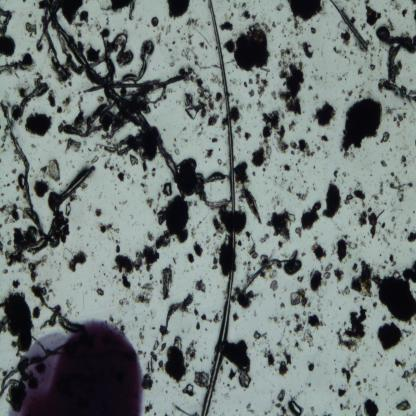Air bubble: (288, 398, 304, 414)
Background material: (47, 165, 96, 253), (59, 116, 134, 159), (340, 99, 382, 161), (375, 260, 416, 322), (0, 291, 34, 358), (330, 0, 369, 53), (232, 24, 270, 72), (278, 48, 304, 116), (189, 74, 222, 126), (158, 196, 190, 248), (110, 246, 160, 276), (338, 303, 368, 352), (142, 340, 166, 392), (226, 340, 252, 388), (375, 25, 416, 54), (349, 259, 375, 300), (166, 336, 188, 384), (295, 200, 322, 237), (174, 155, 197, 198), (355, 206, 384, 239), (238, 186, 263, 224), (376, 319, 404, 352), (267, 209, 295, 242), (286, 0, 325, 23), (293, 313, 316, 350), (0, 52, 38, 74), (0, 9, 17, 56), (261, 109, 282, 144), (322, 184, 342, 220), (25, 113, 53, 137), (59, 247, 87, 271), (212, 206, 233, 238), (389, 173, 412, 202), (331, 236, 358, 260), (271, 170, 294, 198), (104, 0, 136, 20), (59, 0, 84, 25), (312, 102, 336, 128), (220, 239, 236, 276), (133, 282, 156, 307), (28, 254, 46, 284), (290, 138, 316, 158), (250, 145, 272, 168), (40, 158, 61, 182), (165, 0, 191, 19), (364, 0, 382, 27), (161, 266, 175, 300), (382, 210, 396, 244), (308, 269, 324, 298), (233, 288, 255, 309), (0, 202, 20, 225), (289, 289, 312, 308), (4, 248, 28, 266), (254, 73, 270, 100), (235, 162, 252, 186), (277, 349, 292, 376), (98, 219, 121, 236), (171, 401, 198, 415), (363, 396, 380, 416), (276, 125, 288, 153), (274, 391, 288, 415), (181, 48, 199, 66), (63, 138, 82, 155), (86, 45, 102, 65), (33, 178, 49, 198), (400, 363, 416, 382), (307, 312, 326, 328), (235, 211, 247, 236), (194, 370, 209, 390), (262, 347, 276, 368), (371, 181, 385, 201), (310, 242, 326, 259), (271, 314, 291, 327), (140, 42, 156, 58), (24, 20, 38, 38), (301, 41, 314, 60), (187, 339, 197, 363), (392, 112, 408, 127), (340, 365, 352, 385), (392, 1, 408, 16), (104, 156, 118, 173), (120, 274, 133, 291), (263, 22, 281, 34), (292, 19, 304, 37), (338, 398, 353, 412), (332, 268, 345, 284), (396, 399, 412, 412), (223, 38, 235, 55), (158, 324, 170, 341), (248, 240, 258, 260), (354, 188, 368, 202), (220, 21, 235, 34), (252, 329, 268, 341), (47, 89, 57, 108), (349, 358, 362, 372), (182, 384, 195, 398), (62, 95, 74, 110), (195, 278, 206, 294), (161, 182, 174, 195), (240, 8, 252, 22), (297, 186, 309, 200), (340, 32, 352, 46), (333, 46, 347, 58), (214, 156, 228, 168), (186, 19, 201, 30), (370, 43, 376, 70), (129, 153, 140, 167), (231, 106, 240, 123), (144, 400, 154, 415), (1, 128, 7, 153), (80, 9, 90, 24), (241, 77, 253, 89), (168, 144, 181, 155), (226, 367, 236, 381), (381, 130, 391, 144), (193, 242, 203, 256), (324, 262, 332, 279), (407, 229, 416, 244), (259, 232, 270, 244), (385, 104, 396, 116), (289, 119, 299, 132), (150, 16, 160, 29), (269, 278, 279, 291), (399, 155, 409, 168), (344, 192, 353, 206), (211, 254, 219, 269), (394, 358, 406, 368), (201, 312, 213, 322), (204, 148, 214, 160), (336, 386, 346, 398), (387, 18, 395, 32), (270, 88, 278, 102), (32, 306, 40, 320), (146, 194, 154, 208), (186, 32, 194, 46), (11, 278, 21, 289), (146, 231, 156, 242), (320, 133, 330, 144), (243, 129, 252, 141), (247, 402, 256, 414), (341, 284, 350, 296), (234, 125, 242, 138), (94, 206, 101, 220), (355, 380, 362, 394), (257, 100, 265, 112), (192, 225, 198, 240), (317, 346, 326, 356), (275, 3, 285, 12), (65, 201, 71, 216), (282, 164, 292, 173), (296, 274, 305, 284), (187, 252, 194, 264), (333, 168, 339, 182), (156, 30, 162, 44), (210, 135, 219, 144), (90, 155, 98, 165), (118, 172, 126, 182), (380, 157, 388, 167), (214, 312, 221, 323), (390, 254, 396, 266), (200, 41, 208, 50), (357, 66, 364, 76), (232, 312, 239, 322), (308, 362, 315, 372), (151, 166, 157, 177), (96, 288, 104, 296), (310, 25, 316, 35), (195, 320, 201, 330), (56, 105, 62, 115), (280, 300, 286, 310), (248, 90, 254, 99), (1, 268, 8, 275), (328, 384, 334, 392), (194, 307, 198, 319), (115, 245, 120, 254), (413, 9, 416, 24), (347, 90, 353, 97), (308, 84, 313, 92), (12, 169, 18, 175), (27, 13, 33, 19), (410, 0, 416, 6), (16, 184, 20, 191)
Cellulose filter fibre: (39, 0, 140, 122), (0, 103, 45, 246), (136, 108, 181, 184), (240, 249, 299, 296), (29, 284, 79, 334), (139, 68, 194, 112), (10, 82, 48, 121), (194, 173, 230, 208), (164, 294, 192, 329), (118, 53, 147, 82), (382, 80, 416, 98), (388, 44, 399, 81)
Hair: (200, 0, 236, 416)
Pen: (14, 320, 143, 414)
